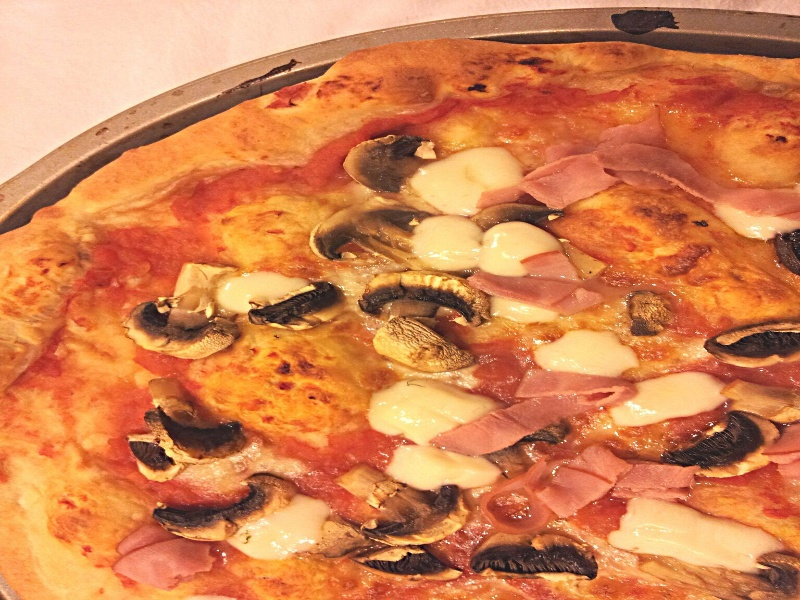champignon: (327, 454, 478, 553), (661, 397, 794, 489), (152, 472, 307, 547), (305, 192, 433, 279), (353, 266, 493, 330), (116, 297, 243, 361), (130, 404, 262, 465), (469, 530, 607, 586), (242, 280, 362, 339), (688, 310, 800, 373)
